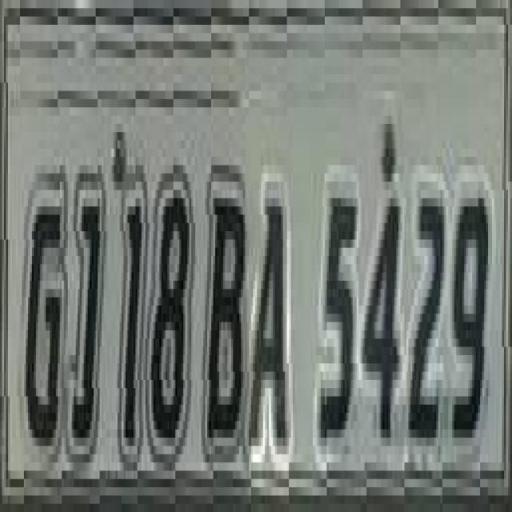number plate: (0, 16, 504, 512)
